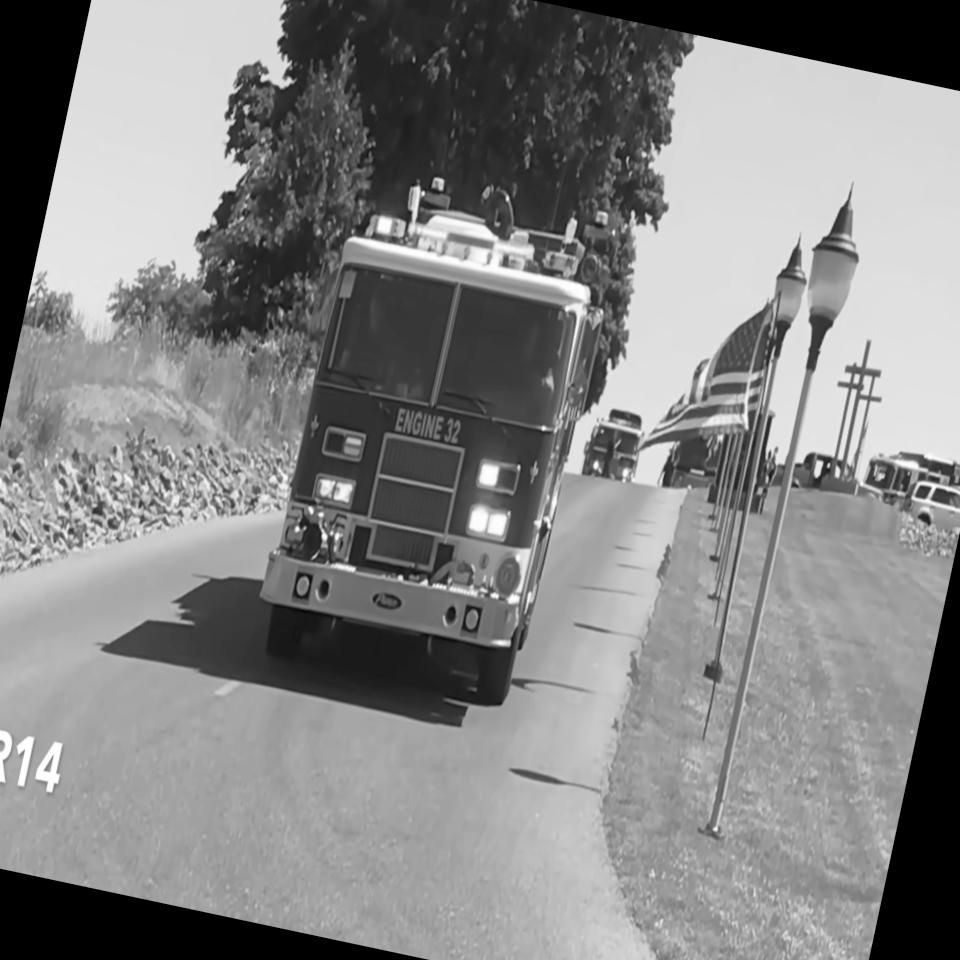viatura: (244, 154, 629, 717)
